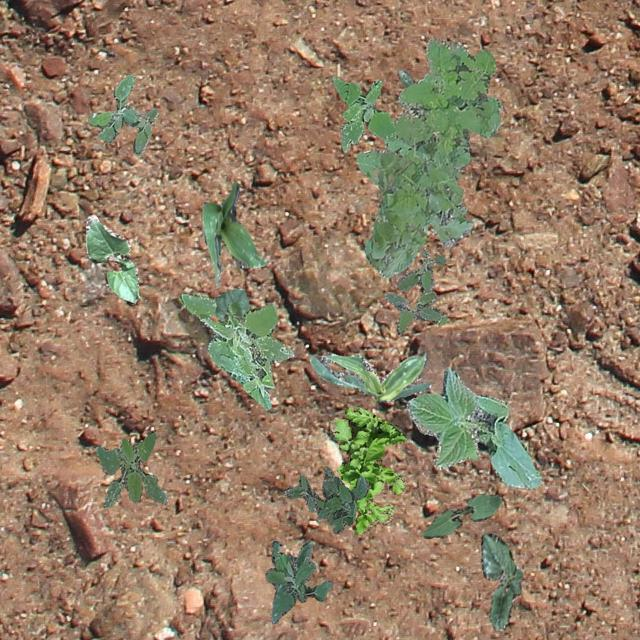crop: (404, 368, 540, 488), (200, 182, 266, 284), (308, 351, 429, 402), (84, 214, 138, 302), (479, 532, 522, 630), (420, 492, 500, 538), (208, 286, 248, 341)
weed: (354, 36, 501, 278), (178, 292, 292, 409), (328, 406, 406, 534), (95, 430, 167, 508), (264, 540, 332, 622), (284, 466, 368, 532), (384, 246, 446, 334), (88, 74, 156, 154), (330, 75, 396, 152), (396, 70, 414, 86)
